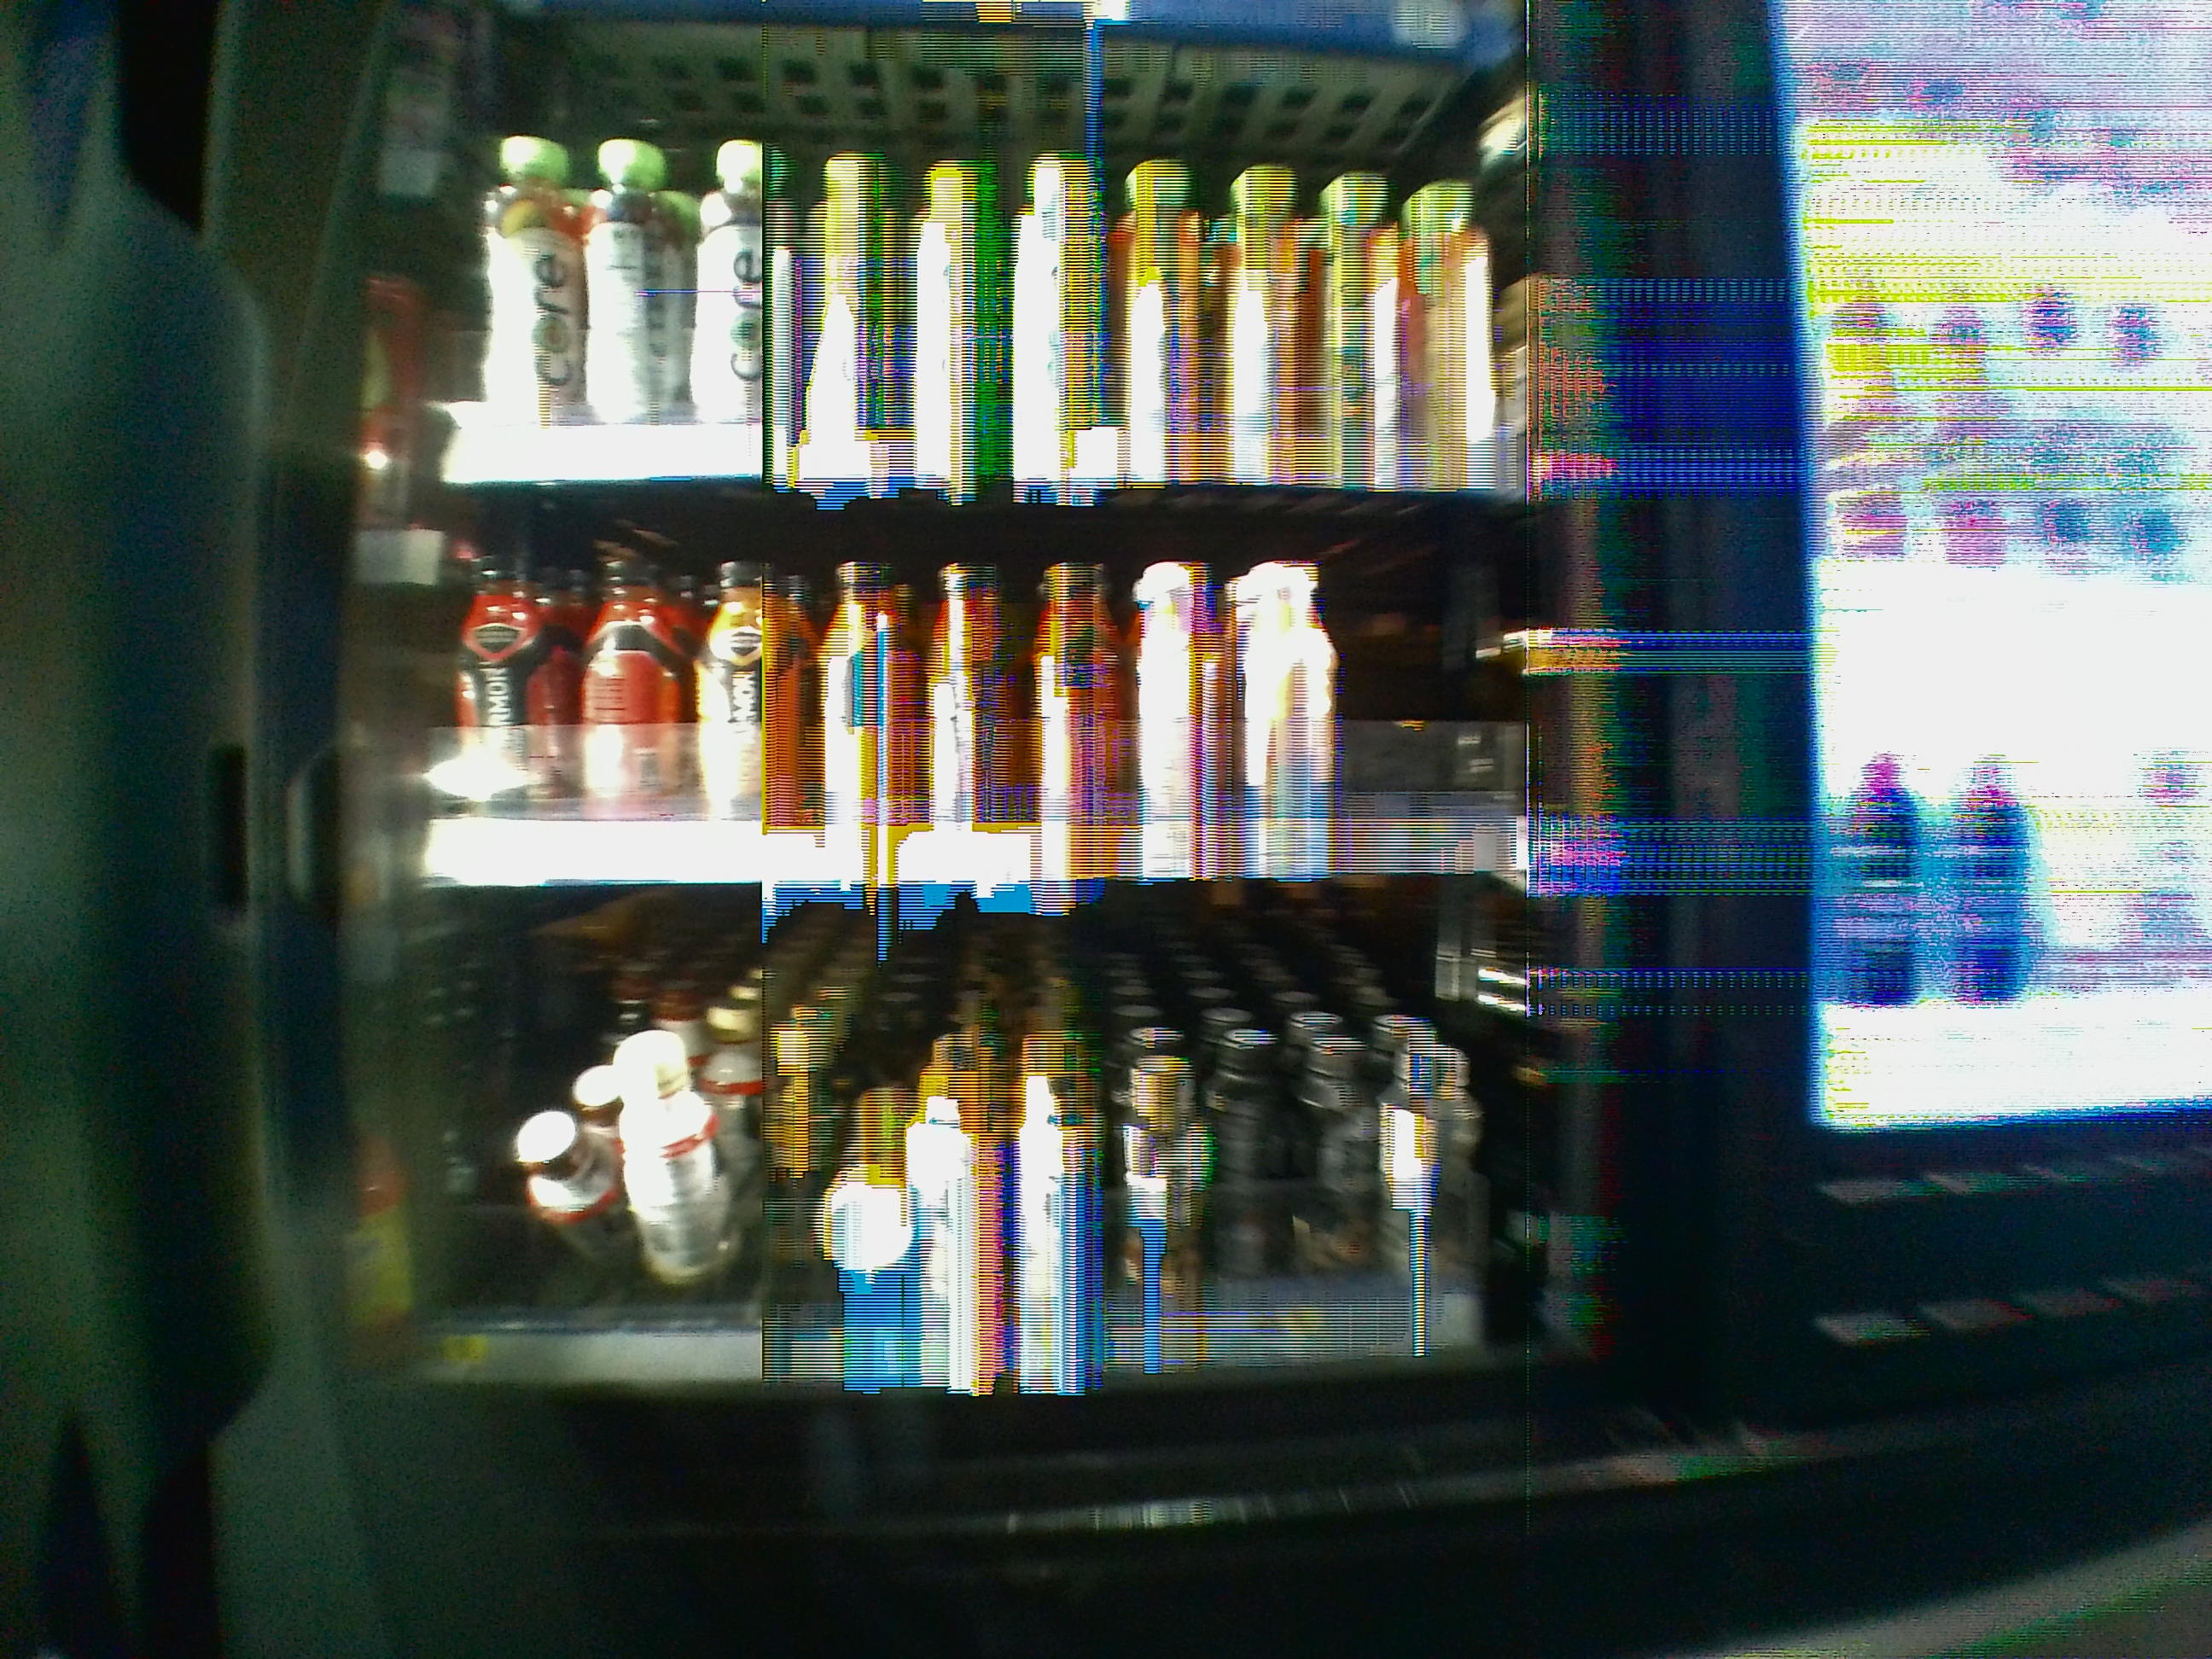shelf: (345, 885, 1581, 1382), (336, 481, 1568, 875)
